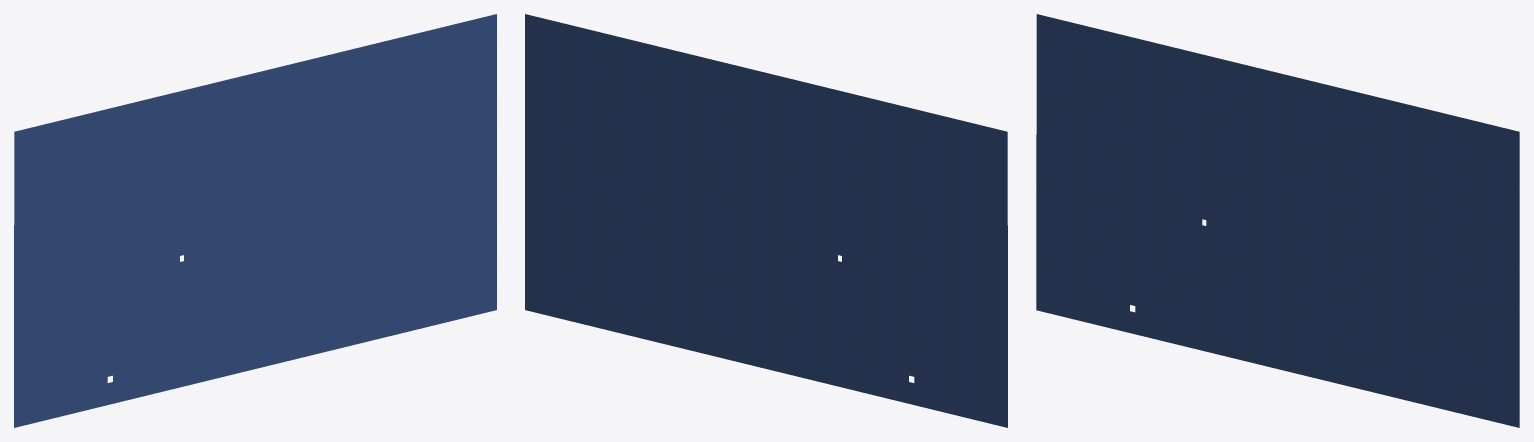
The model's file is floor_1.obj.
The picture shows the model from 3 angles, left to right: view 1: azimuth 30°, elevation 25°; view 2: azimuth 150°, elevation 25°; view 3: azimuth 330°, elevation 25°; orthographic projection.
Parts seen in each view (by area): view 1: floor_1; view 2: floor_1; view 3: floor_1.
Part boxes in pixels (x1,y1,x2,y2): floor_1: (14,14,496,427); floor_1: (525,14,1007,427); floor_1: (1036,14,1519,427).
Size of the model in its own units: 140 by 81.83 by 0.1.
